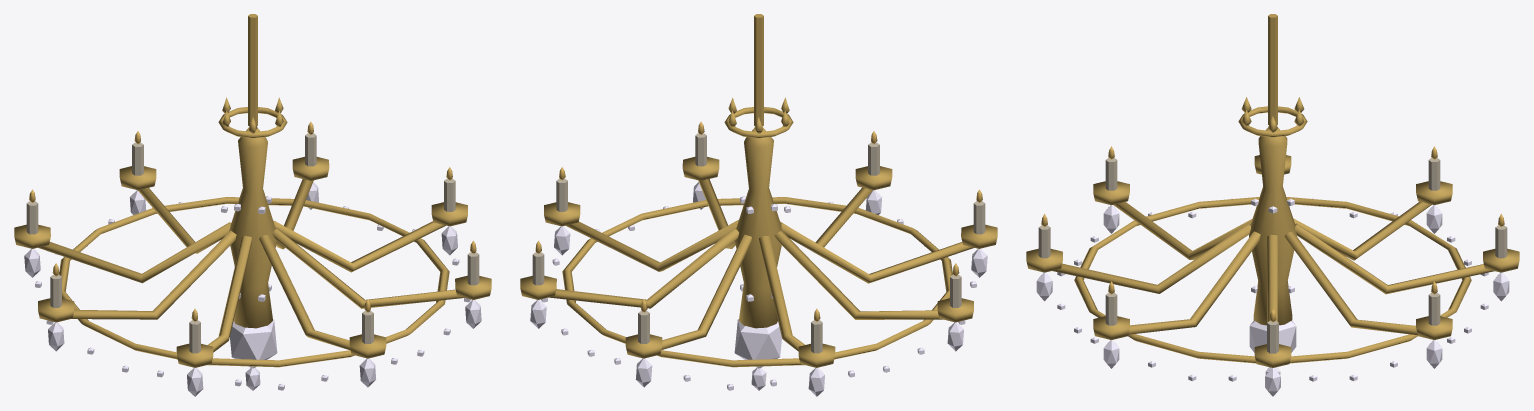
Rendered from chandelier_small.glb.
3 renders of one model, left to right at view 1: azimuth 30°, elevation 25°; view 2: azimuth 150°, elevation 25°; view 3: azimuth 270°, elevation 25°, orthographic.
Visible parts, largest first — view 1: chandelier_small; view 2: chandelier_small; view 3: chandelier_small.
Boxes of the visible parts, x1,y1,x2,y2 form: chandelier_small: (14, 14, 491, 396); chandelier_small: (520, 14, 997, 396); chandelier_small: (1026, 14, 1519, 396).
Size of what is drawn, in the model's own units: 1.2 by 1 by 1.2.
